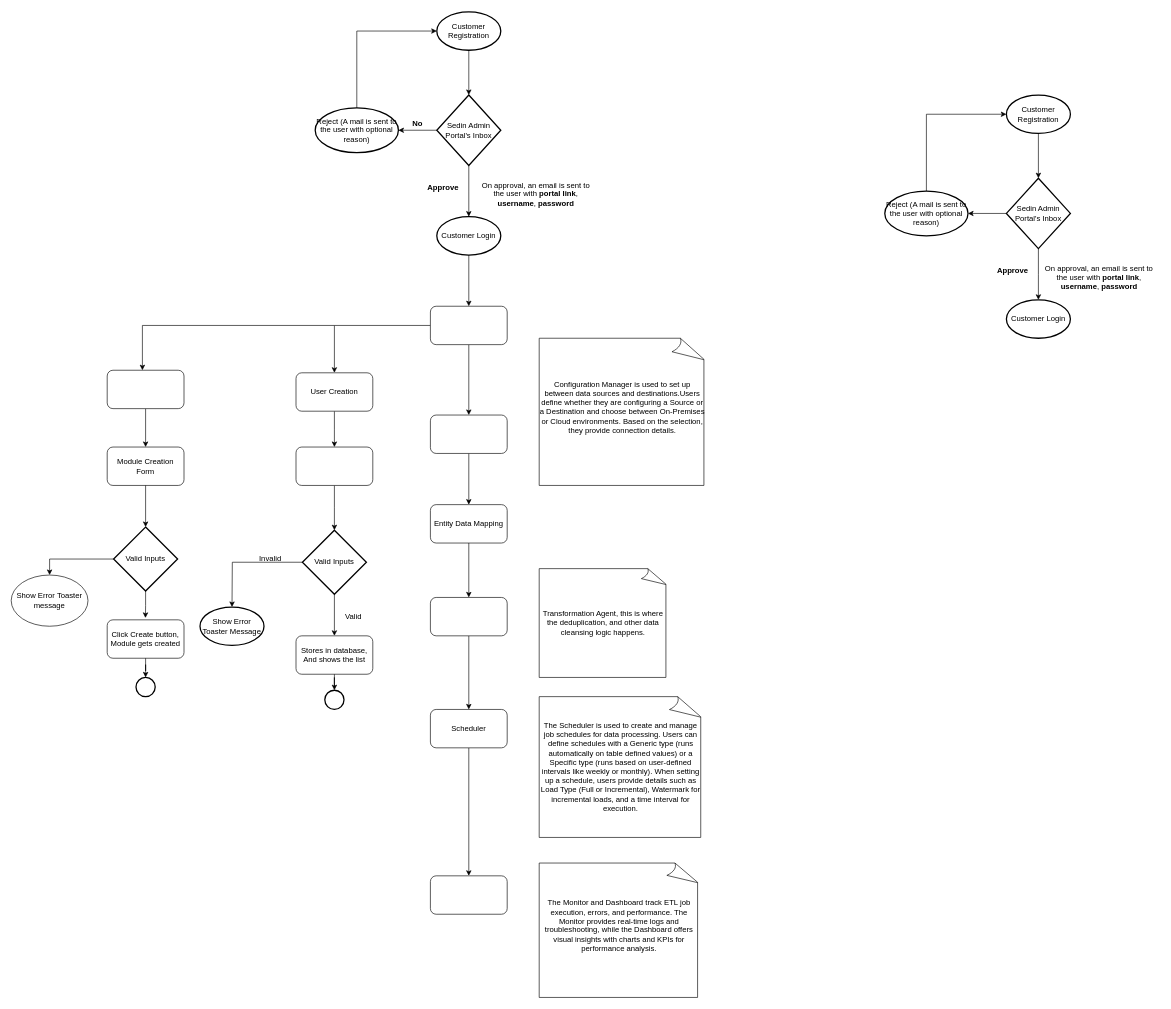
This 1171x1009 diagram has some shape labels left out. The shapes that lost their labels are listed below. From the top down, each one's centre as x and y in pixels, then its label:
point (468, 325): Home page
point (145, 389): Module Creation
point (468, 433): Configuration Manager
point (334, 465): User Creation Form
point (468, 616): Transformation Agent
point (468, 894): Monitor / Dashboard
